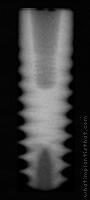DENTSPLY: (17, 9, 75, 192)
